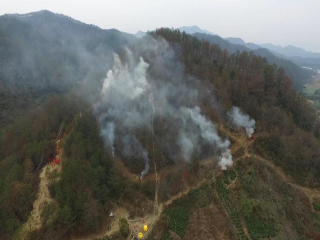smoke: (94, 36, 257, 176)
